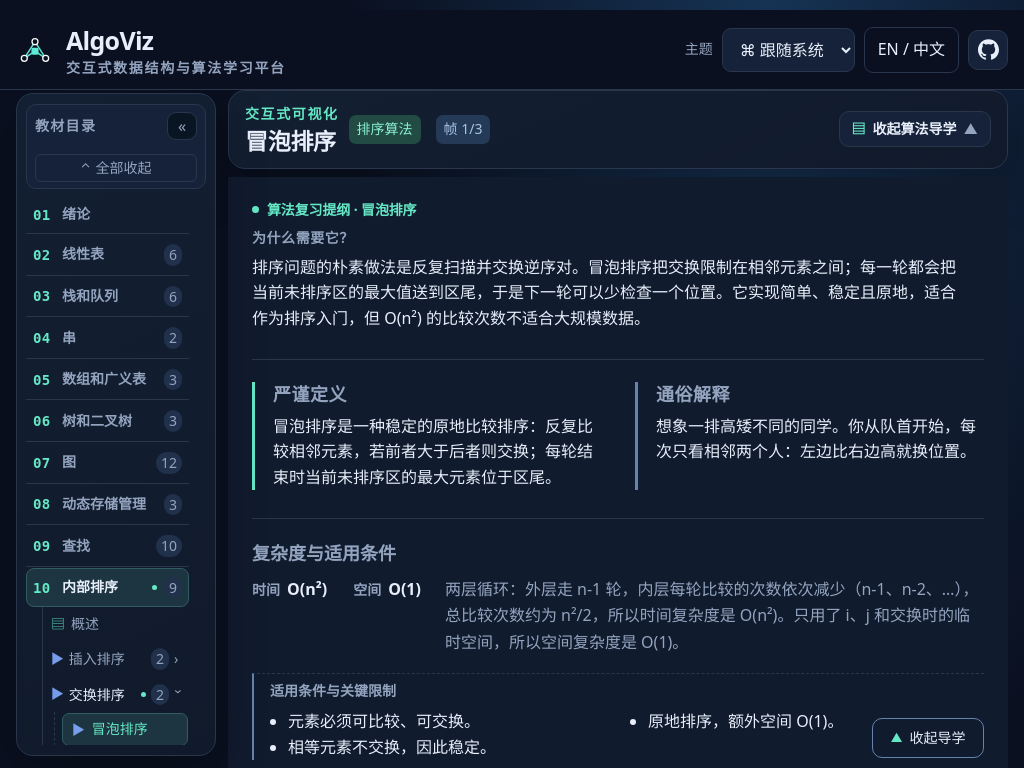
Test case: CORE-REFINE-01 shell integration › opens a concept lesson without a player, trace or code editor and can switch back to an algorithm
This screenshot has width=1024, height=768.
Later steps or results of the test are not shown.
Click the button with test id "chapter-ch7-graph": (108, 463) [26,443,189,482]
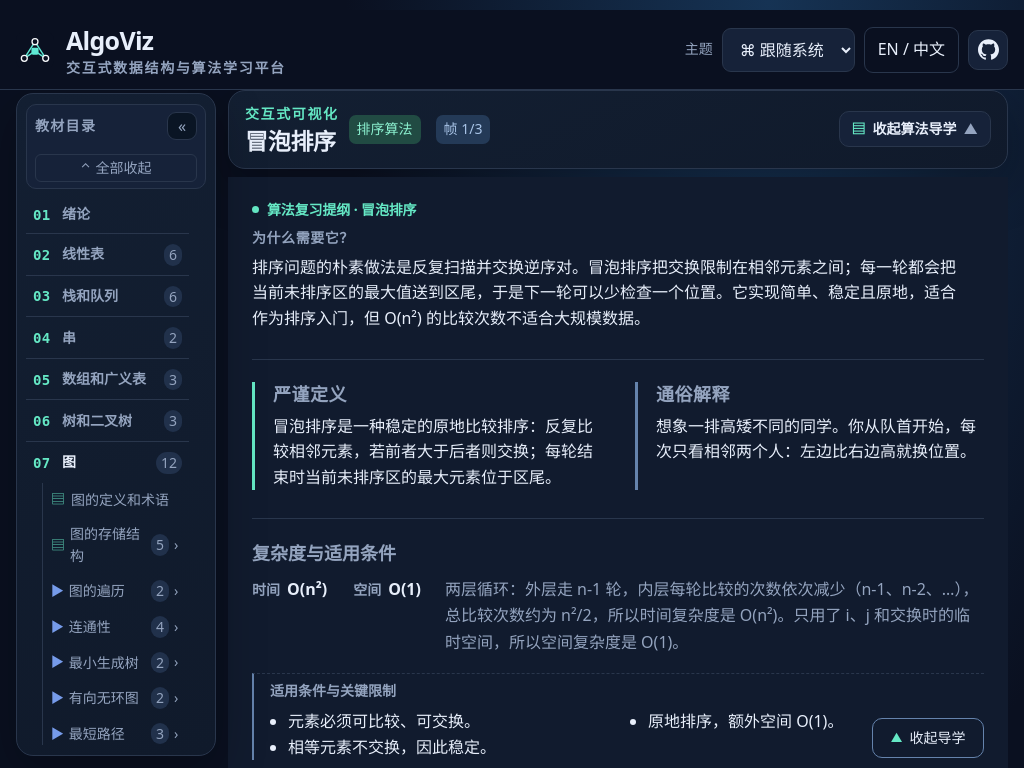
Click the button with test id "topic-graph-basics": (118, 499) [48,482,189,516]
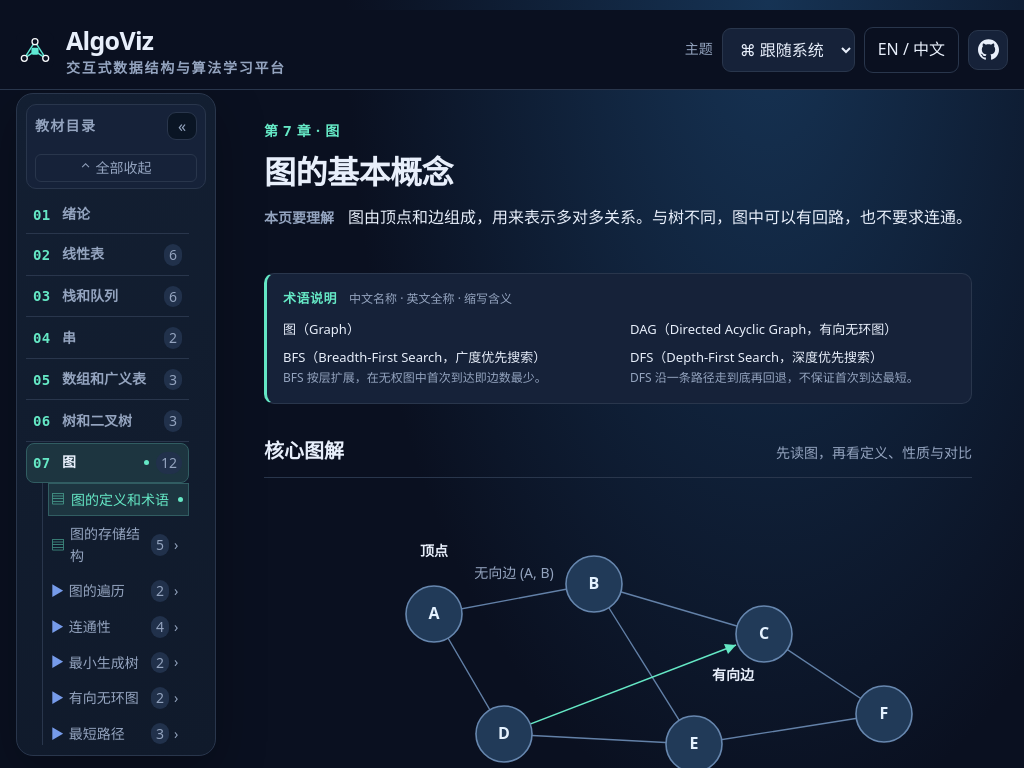
Expected: the heading with test id "concept-title" reads "图的基本概念", [264,150,453,193]
